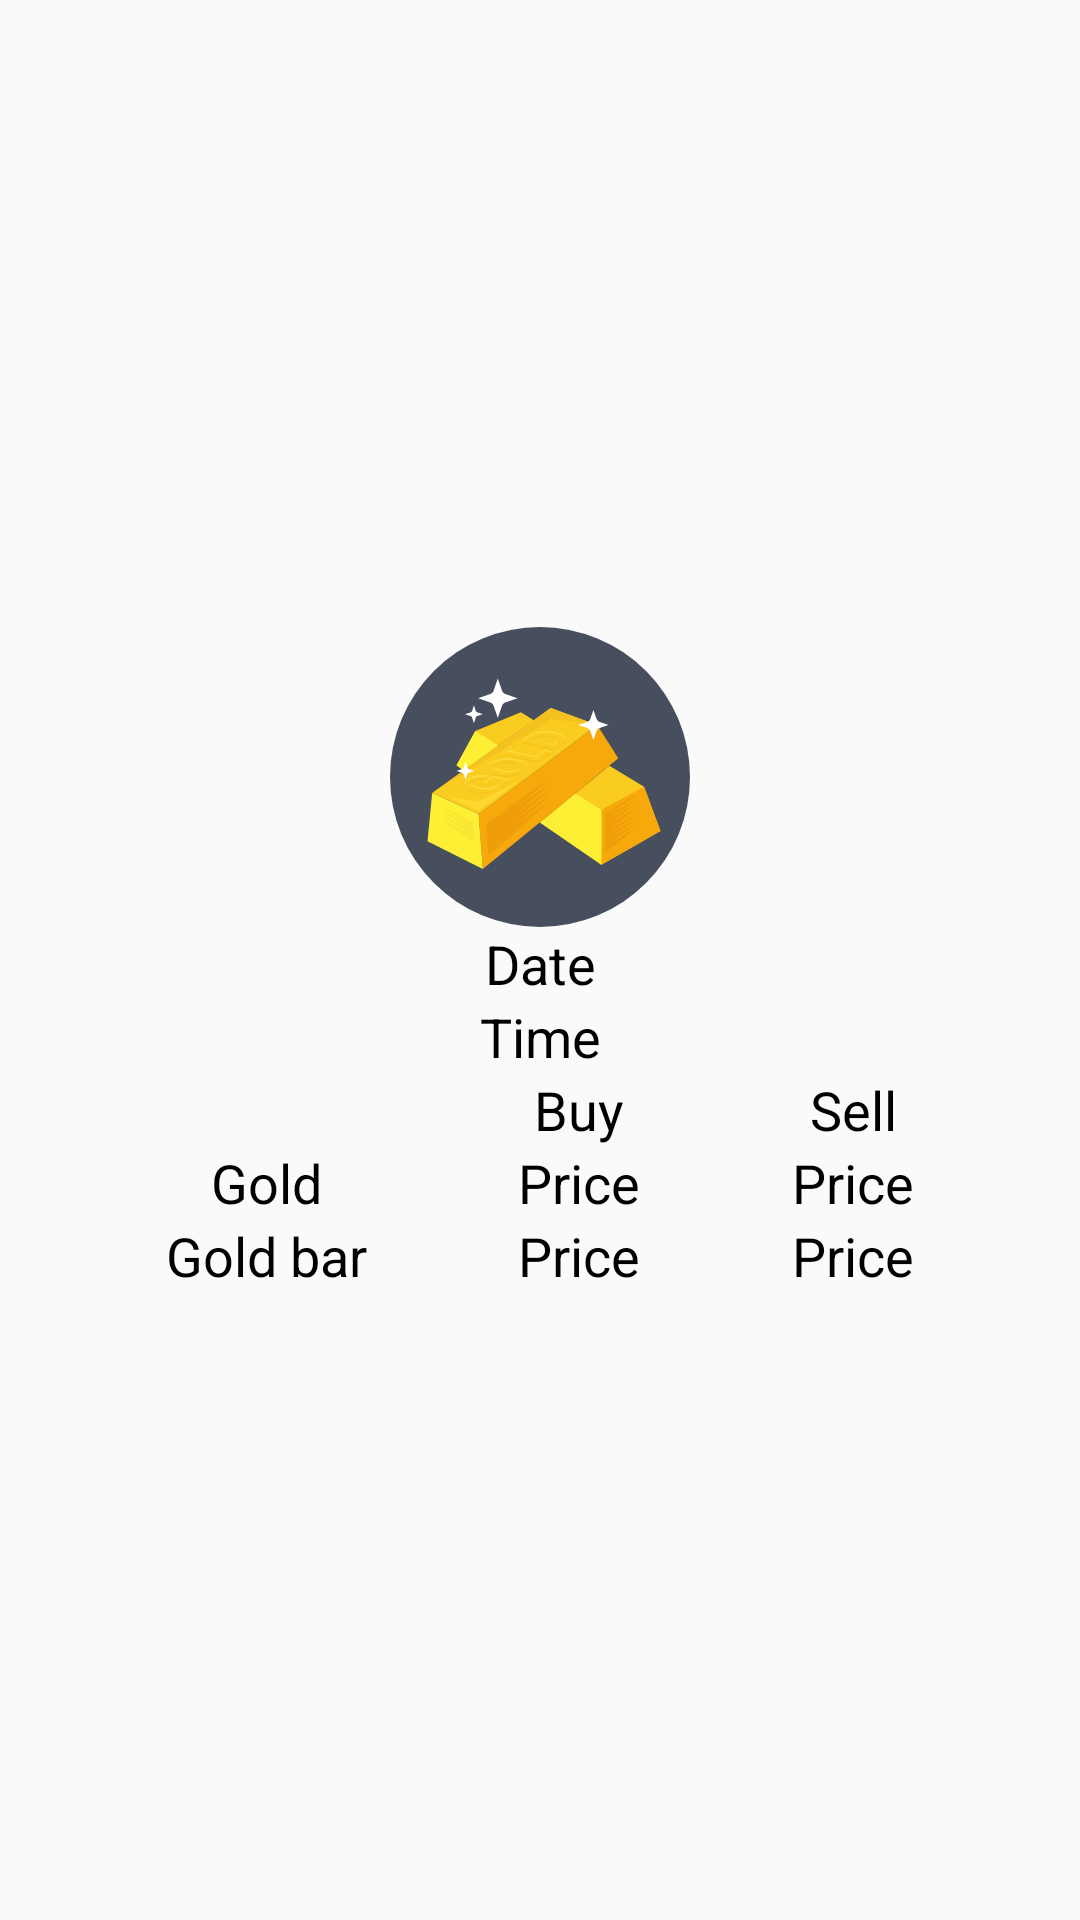

Point at icon controls on the screen. Image size 1080 x 1920, points as (x,y).
gold: (540,777)
